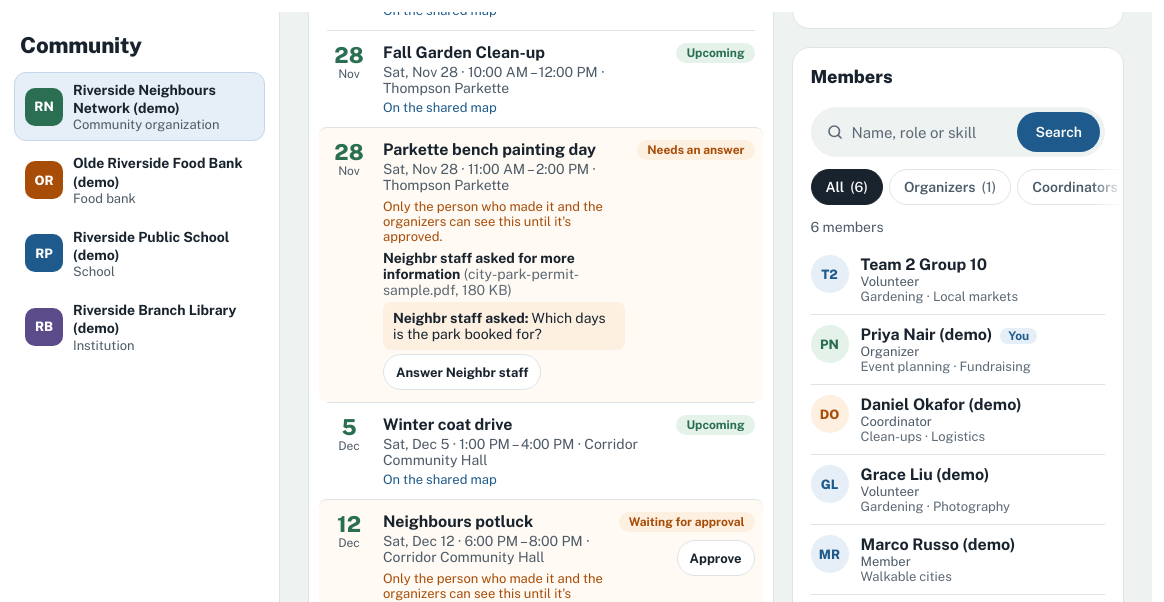
Test: CommunityPage › event permits (KAN-52) › shows the group what Neighbr staff asked, and lets an organizer answer
(page scrolled)
Check: the text "Needs an answer" is shown, box [637,140,754,160]
Check: the text "Which days is the park booked for?" is shown, box [393,310,606,342]
Click the button "Answer Neighbr staff": (462, 372) [383,354,541,390]
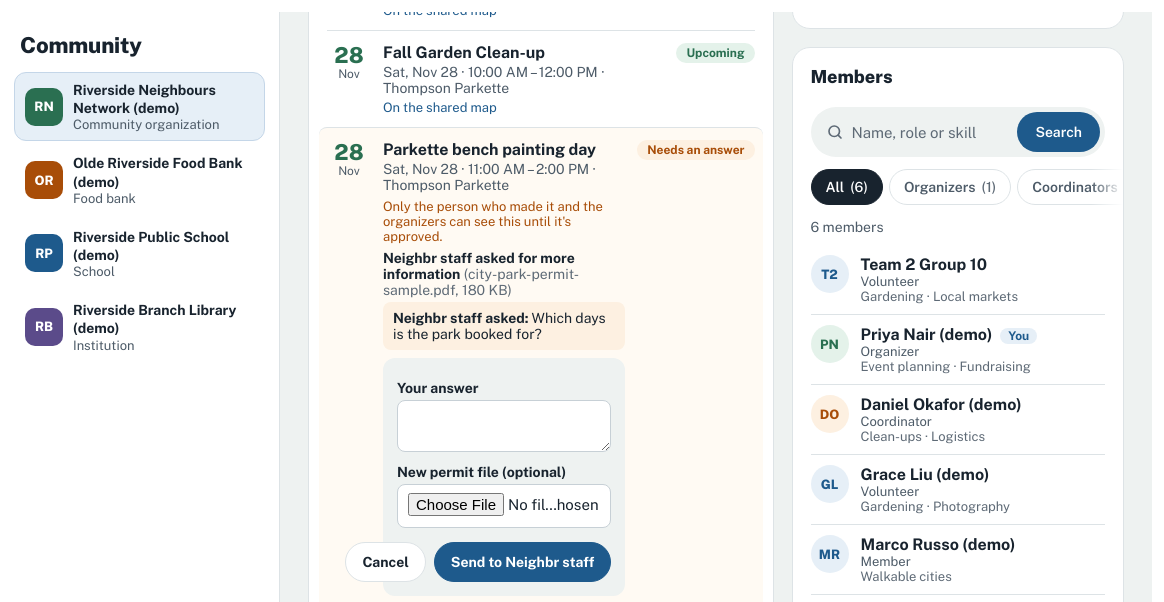
Click the button "Send to Neighbr staff": (523, 562) [434,542,611,582]
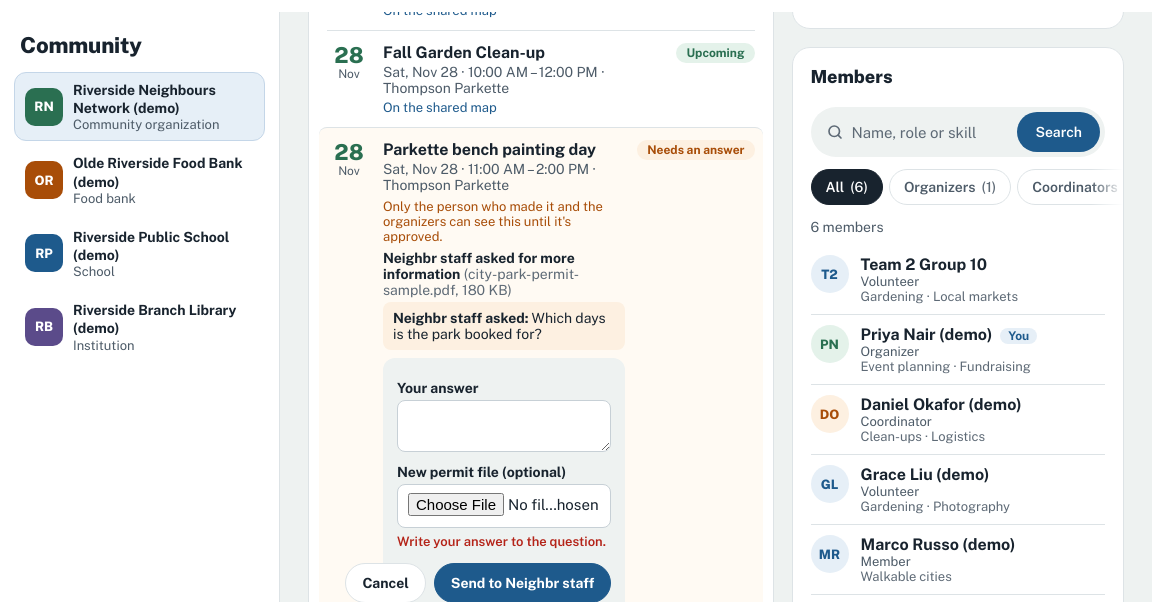
Check: the message reads "Write your answer to the question.", box [397,534,606,549]
In the text box labelled "Your answer": (504, 426) [397,400,611,452], type "Saturday only."
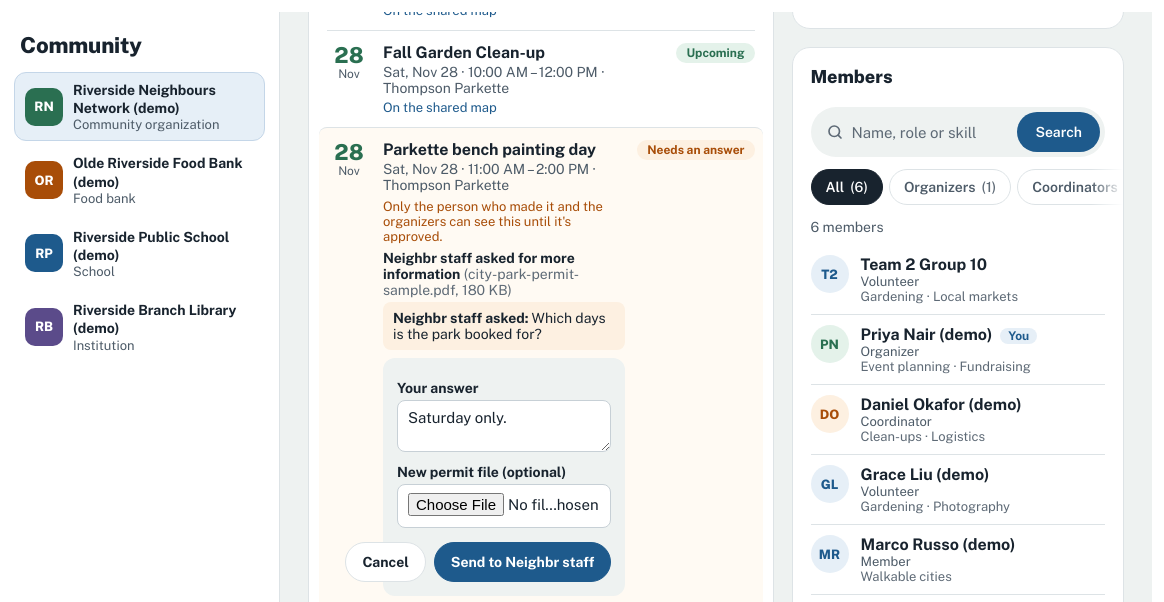
Click the button "Send to Neighbr staff": (523, 562) [434,542,611,582]
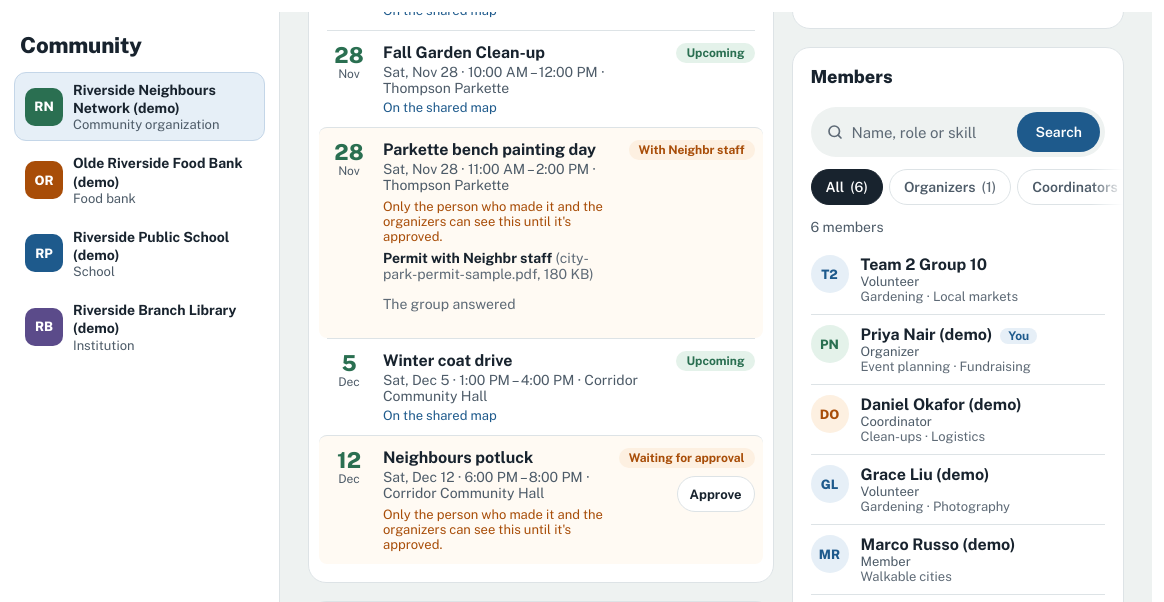
Check: the text "With Neighbr staff" is shown, box [629,140,754,160]
